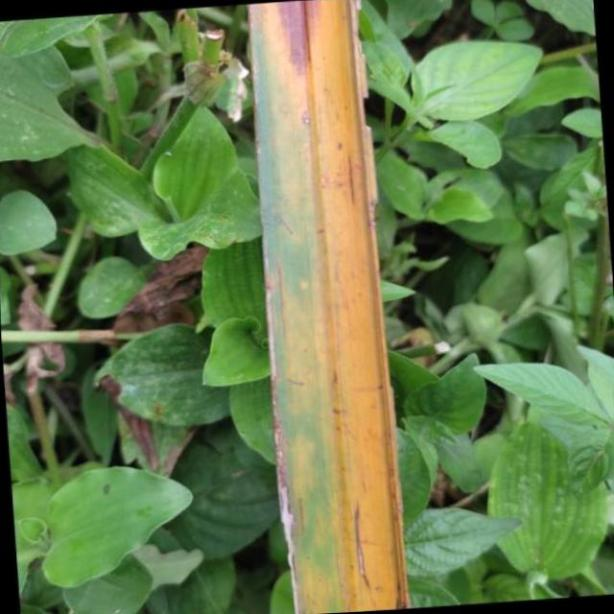Megnesium: (246, 0, 406, 614)
